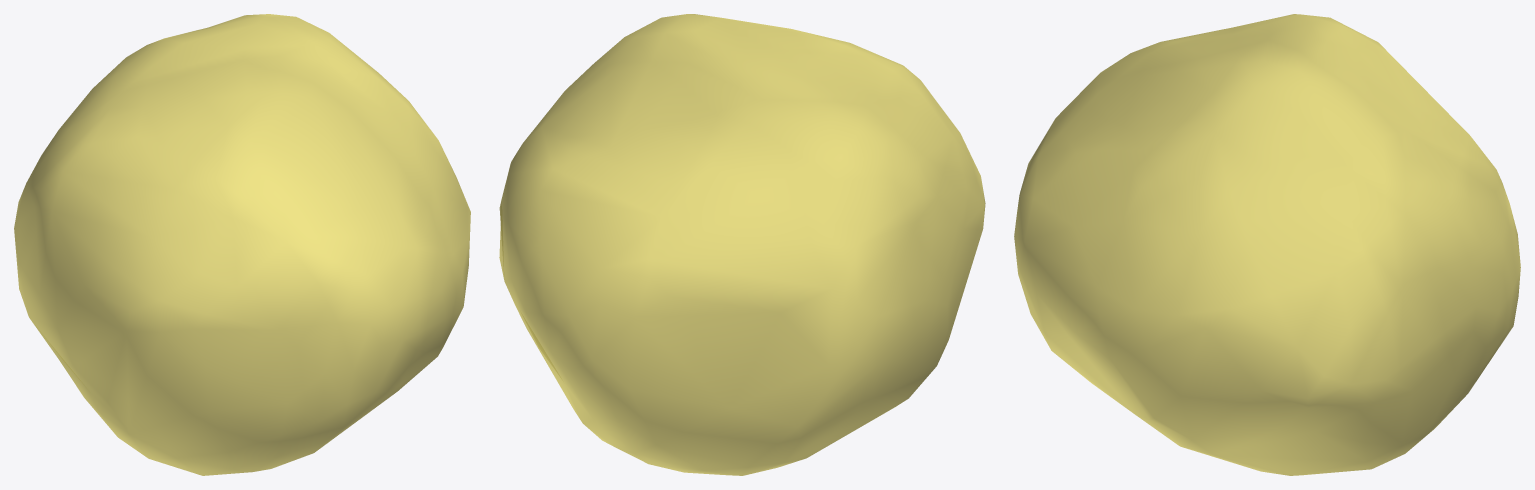
File: Lizozom2.fbx
The picture shows the model from 3 angles, left to right: view 1: azimuth 30°, elevation 25°; view 2: azimuth 150°, elevation 25°; view 3: azimuth 270°, elevation 25°; orthographic projection. The views are drawn at different scales.
Visible parts, largest first — view 1: Lizozom; view 2: Lizozom; view 3: Lizozom.
Boxes of the visible parts, x1,y1,x2,y2 form: Lizozom: (14, 14, 470, 475); Lizozom: (499, 14, 985, 475); Lizozom: (1014, 14, 1520, 475).
Bounding box in the file's own units: 37.09 × 36.79 × 39.47.
